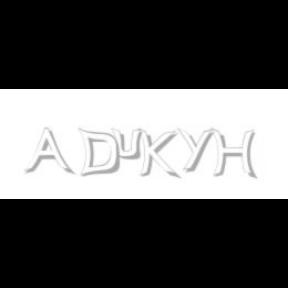A: (24, 128, 72, 176)
D: (78, 128, 120, 178)
H: (211, 128, 257, 180)
K: (137, 128, 177, 180)
u: (110, 128, 145, 160)
y: (177, 128, 217, 172)
